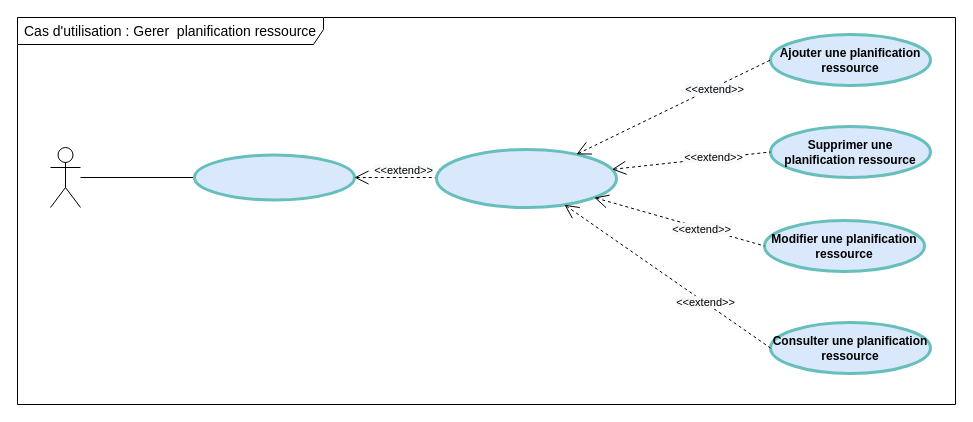
This 973x422 diagram has some shape labels left out. The box of each missing label's shape, as (x1, y1, x2, y2) in pixels:
Administrateur: (50, 146, 80, 208)
Consulter les planifications ressources: (434, 148, 618, 208)
Consulter un accord: (192, 153, 356, 201)
